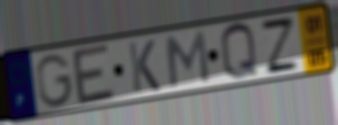E: (70, 41, 118, 108)
G: (34, 53, 76, 110)
K: (126, 38, 163, 95)
M: (163, 29, 212, 90)
Q: (218, 21, 261, 84)
Z: (258, 16, 302, 76)
